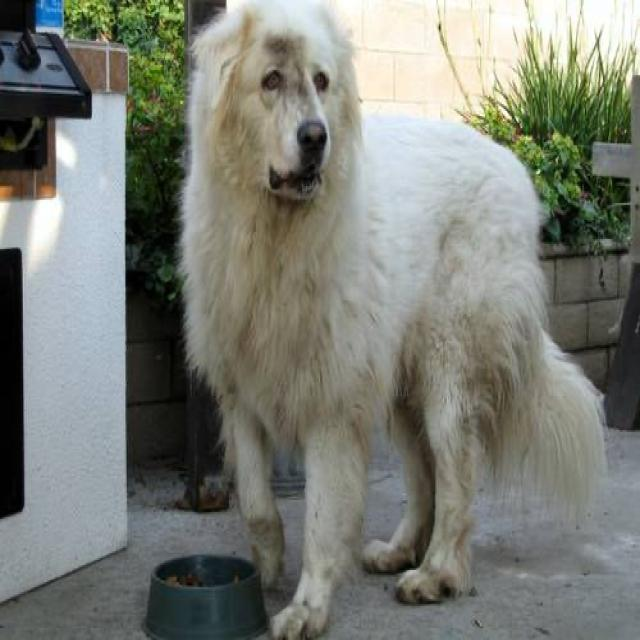dog: (204, 2, 354, 198)
